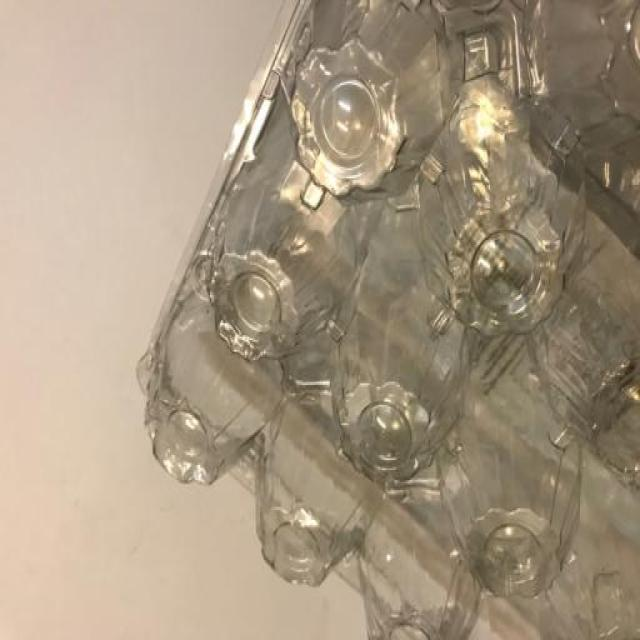plastic: (135, 0, 639, 638)
